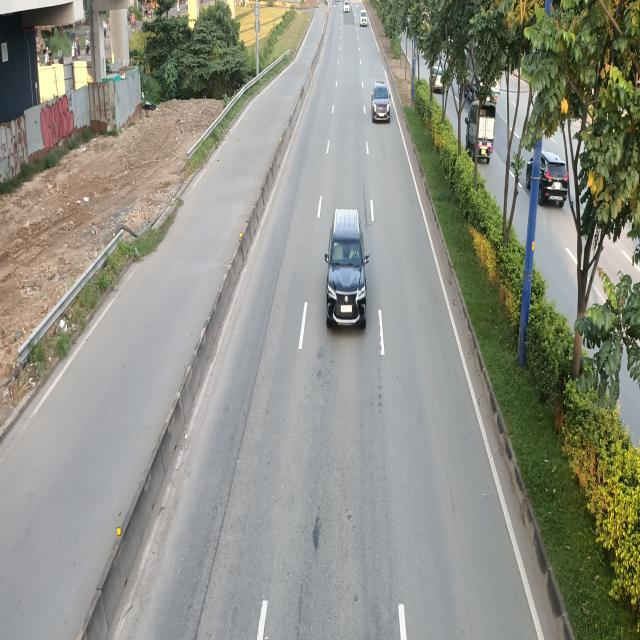car: (325, 210, 369, 330), (372, 82, 392, 123)
